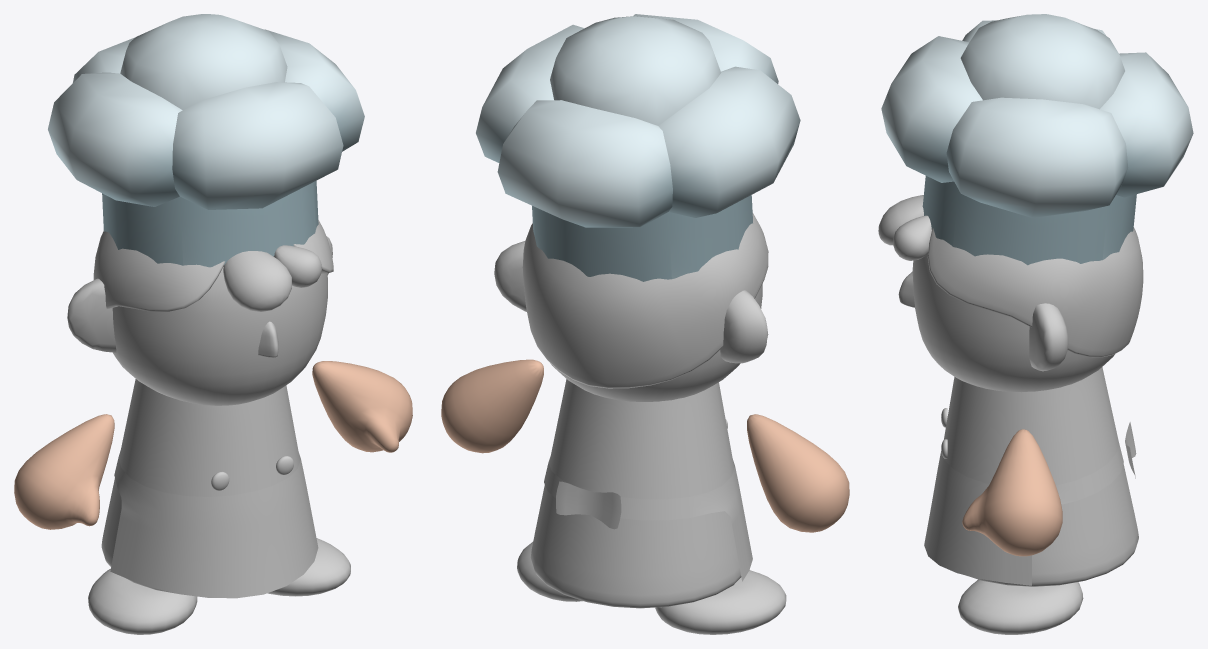
The model's file is Character2H.FBX.
The picture shows the model from 3 angles, left to right: view 1: azimuth 30°, elevation 25°; view 2: azimuth 150°, elevation 25°; view 3: azimuth 270°, elevation 25°; orthographic projection. The views are drawn at different scales.
Parts seen in each view (by area): view 1: Cylinder005, Cylinder006, Object001; view 2: Cylinder005, Cylinder006, Object001; view 3: Cylinder005, Cylinder006, Object001.
Boxes of the visible parts, x1,y1,x2,y2 form: Cylinder005: [67, 220, 350, 634]; Cylinder006: [48, 14, 364, 267]; Object001: [14, 361, 412, 529]; Cylinder005: [494, 213, 786, 634]; Cylinder006: [476, 14, 800, 281]; Object001: [441, 359, 849, 532]; Cylinder005: [878, 195, 1143, 634]; Cylinder006: [881, 14, 1193, 265]; Object001: [962, 429, 1062, 556].
Bounding box in the file's own units: 26.74 × 37.26 × 19.04.
